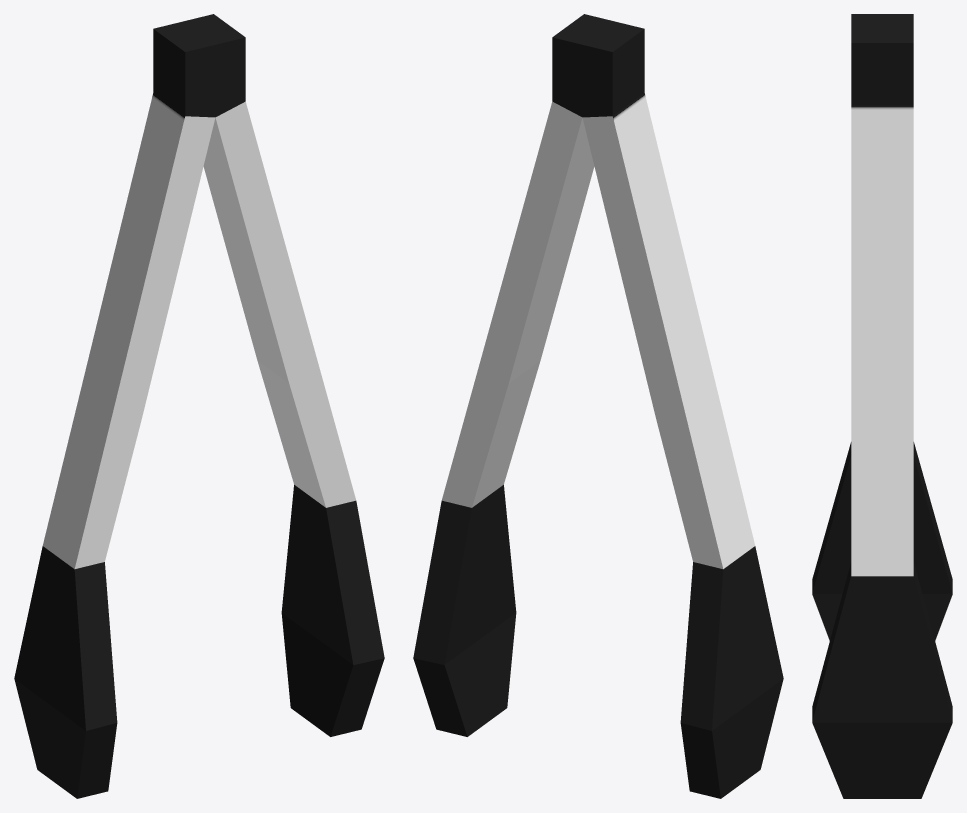
File: tongs4_PLY.fbx
3 views of the same model, side by side, from view 1: azimuth 30°, elevation 25°; view 2: azimuth 150°, elevation 25°; view 3: azimuth 270°, elevation 25° (orthographic). The views are drawn at different scales.
Visible parts, largest first — view 1: tongs4_PLY; view 2: tongs4_PLY; view 3: tongs4_PLY.
Boxes of the visible parts, x1=… form: tongs4_PLY: x1=14, y1=14, x2=384, y2=798; tongs4_PLY: x1=413, y1=14, x2=783, y2=798; tongs4_PLY: x1=812, y1=14, x2=952, y2=798.
Bounding box in the file's own units: 0.6567 × 1.51 × 0.2732.
